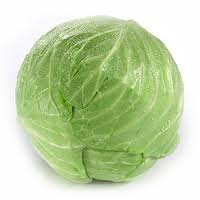cabbage: (13, 12, 199, 191)
